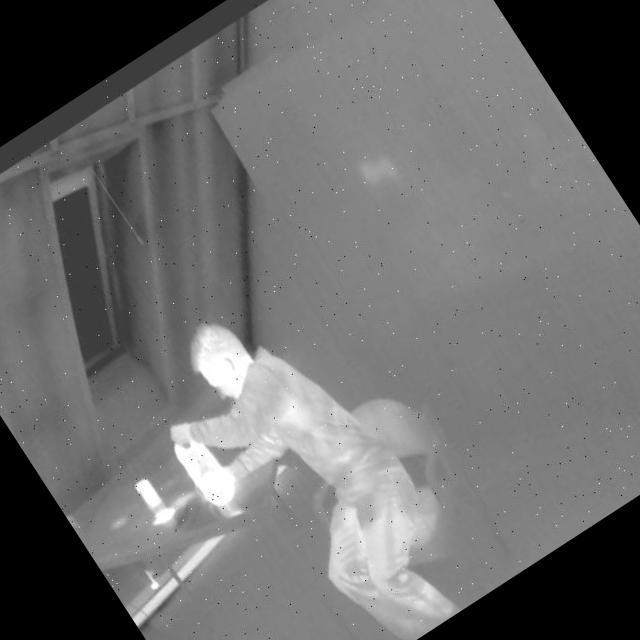person: (122, 255, 511, 640)
